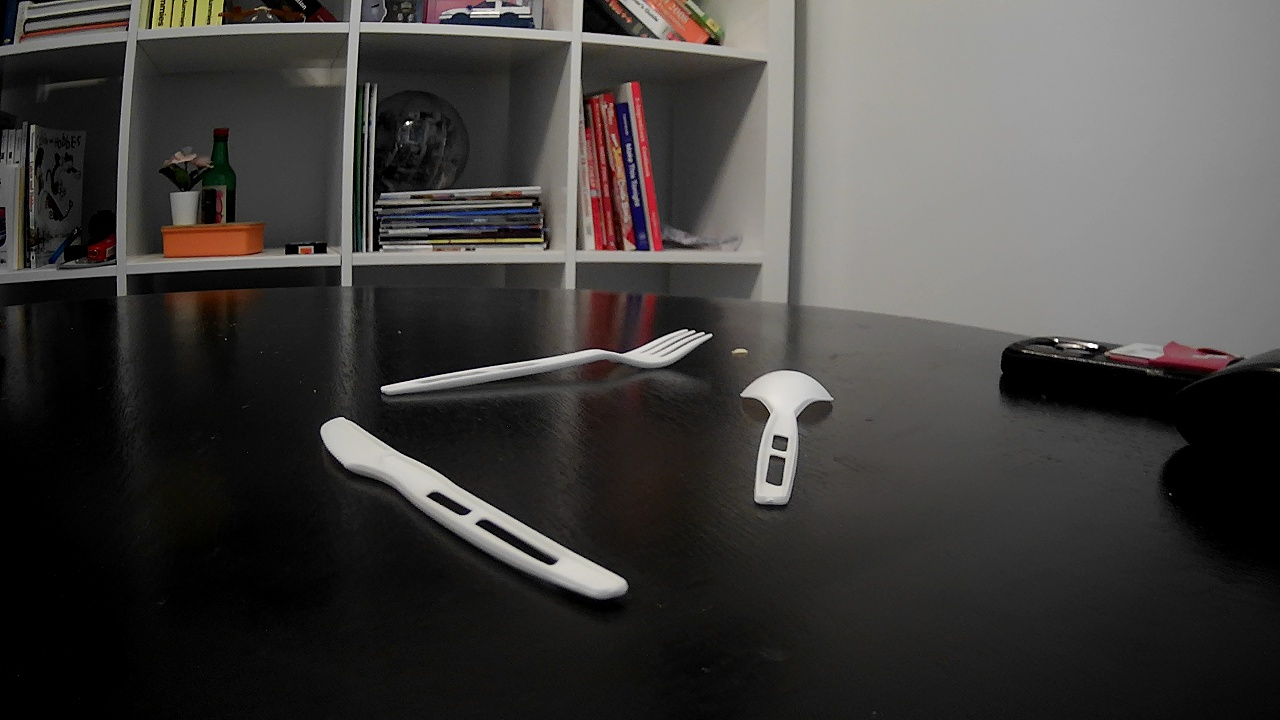trash: (727, 371, 830, 510)
